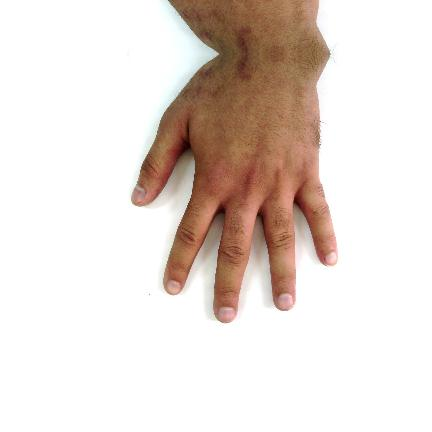Nail: (130, 183, 146, 204), (217, 307, 236, 323), (277, 293, 294, 310), (165, 281, 181, 295), (326, 251, 338, 266)
